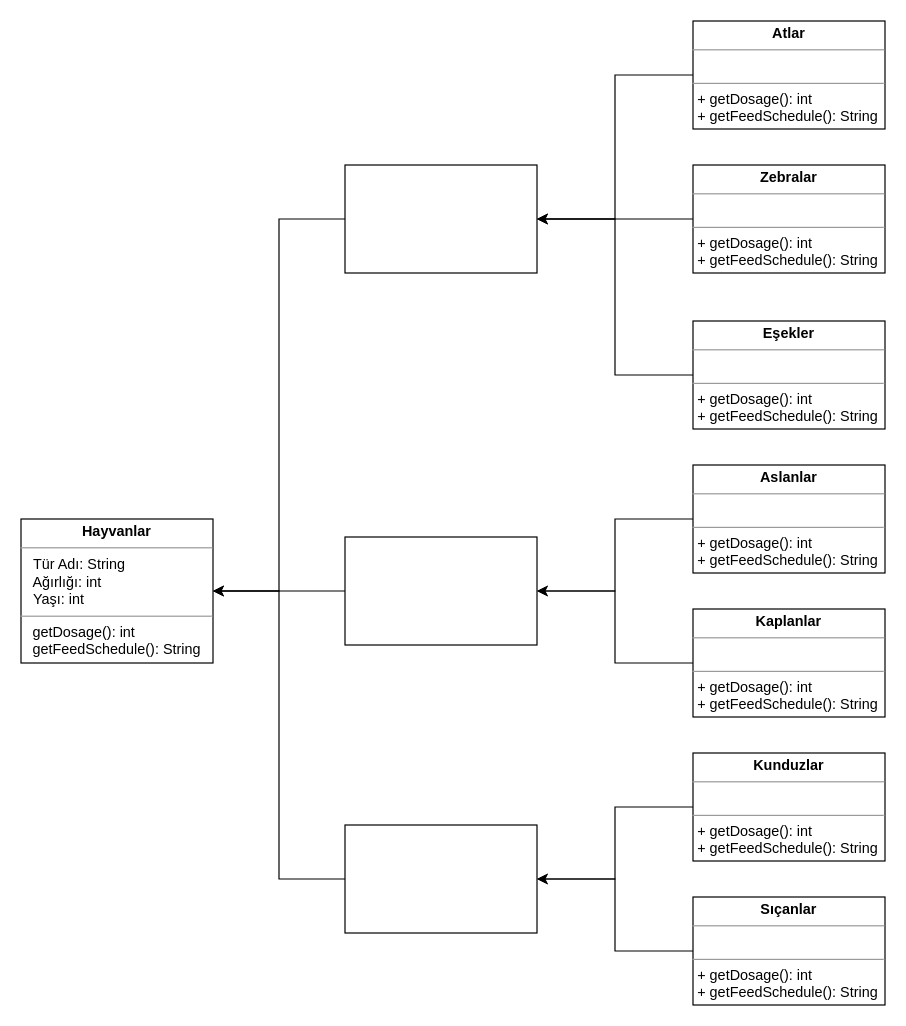
This 906x1026 diagram has some shape labels left out. The shapes that lost their labels are listed below. From the top down, each one's box as (x1, y1, x2, y2) in pixels, then its label:
(344, 164, 537, 273): Atgiller + getDosage(): int + getFeedSchedule(): String
(344, 536, 537, 645): Kedigiller + getDosage(): int + getFeedSchedule(): String
(344, 824, 537, 933): Kemirgenler + getDosage(): int + getFeedSchedule(): String
